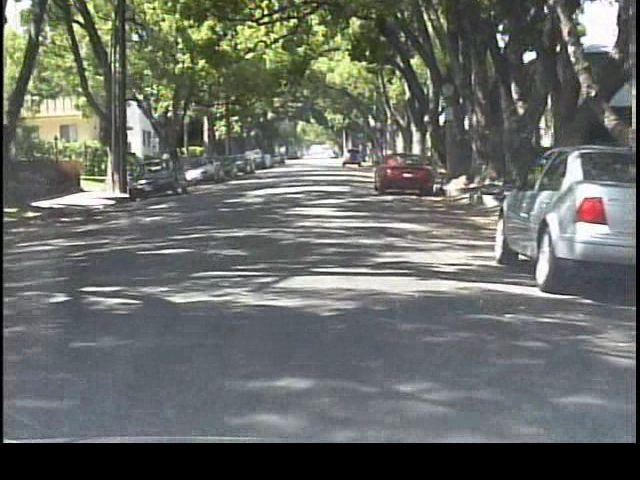person: (158, 150, 178, 186)
